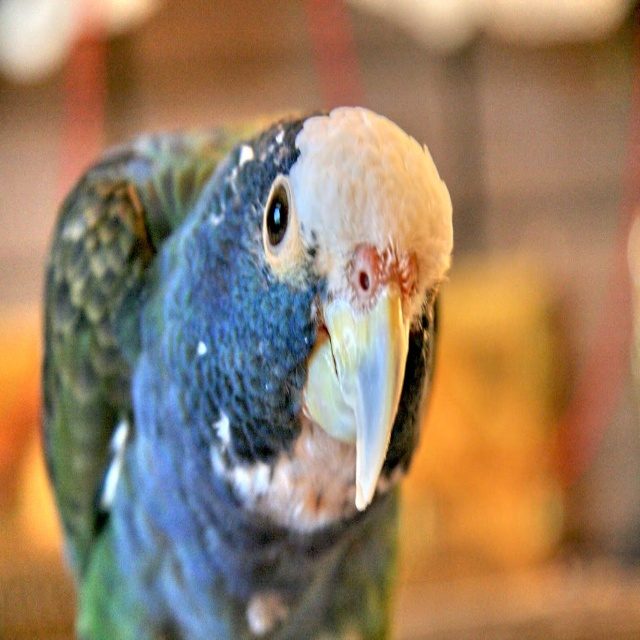Parrot: (39, 100, 457, 639)
